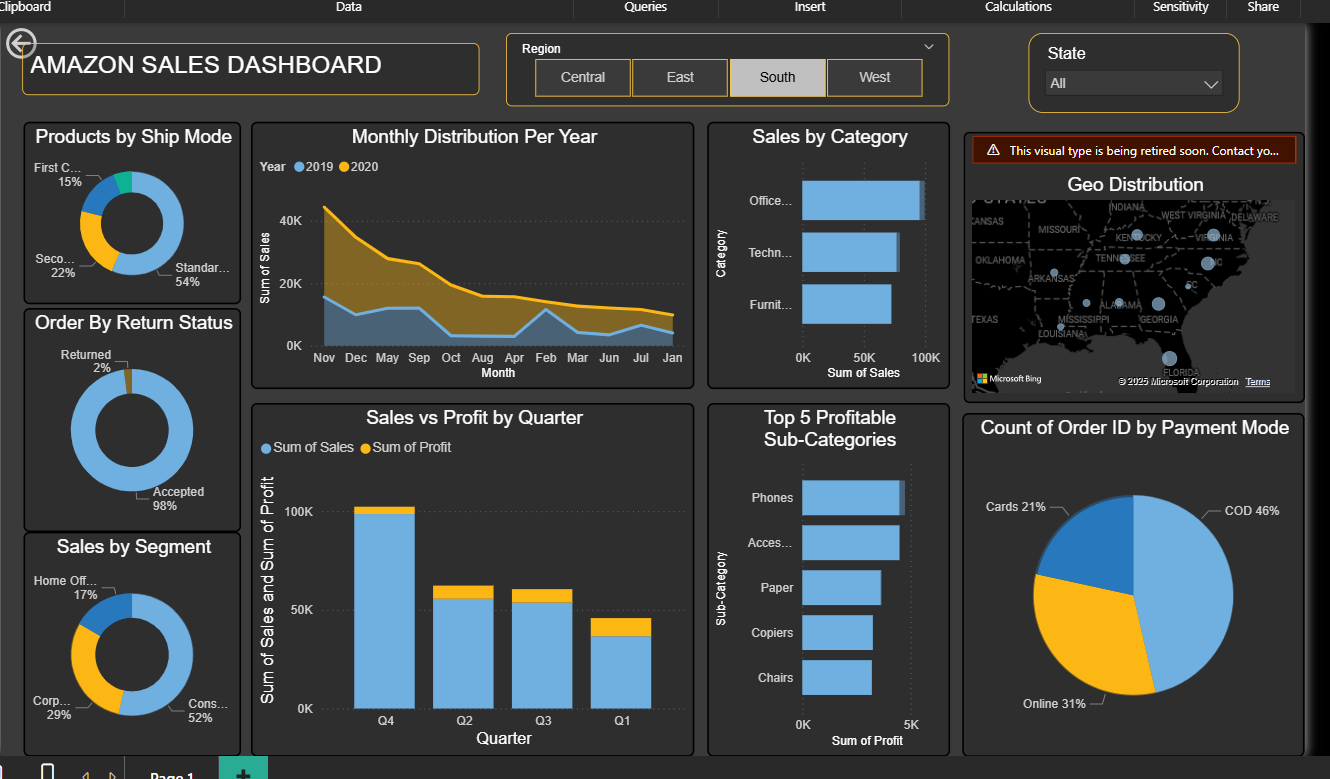

The dashboard page shown, as its layout file describes it:
{"tool":"powerbi","page":{"name":"Page 1","canvas":[1280,720],"ordinal":0},"visuals":[{"type":"clusteredBarChart","title":"Sales by Category","fields":{"Category":["Amazon Store Sales Data xlsx -.Category"],"Y":["Sum(Amazon Store Sales Data xlsx -.Sales)"]},"box":[693.3,96.9,238,262.6],"z":0},{"type":"clusteredBarChart","title":"Top 5 Profitable Sub-Categories","fields":{"Category":["Amazon Store Sales Data xlsx -.Sub-Category"],"Y":["Sum(Amazon Store Sales Data xlsx -.Profit)"]},"box":[693.3,373,238,347.2],"z":1000},{"type":"donutChart","title":"Sales by Segment","fields":{"Category":["Amazon Store Sales Data xlsx -.Segment"],"Y":["Sum(Amazon Store Sales Data xlsx -.Sales)"]},"box":[22.1,499.4,213.5,220.9],"z":2000},{"type":"donutChart","title":"Products by Ship Mode","fields":{"Category":["Amazon Store Sales Data xlsx -.Ship Mode"],"Y":["CountNonNull(Amazon Store Sales Data xlsx -.Product ID)"]},"box":[22.1,96.9,213.5,179.1],"z":3000},{"type":"pieChart","fields":{"Category":["Amazon Store Sales Data xlsx -.Payment Mode"],"Y":["CountNonNull(Amazon Store Sales Data xlsx -.Order ID)"]},"box":[943.6,382.8,336.2,337.4],"z":4000},{"type":"donutChart","title":"Order By Return Status","fields":{"Category":["Sheet1.Return status"],"Y":["CountNonNull(Amazon Store Sales Data xlsx -.Order ID)"]},"box":[22.1,279.8,213.5,219.6],"z":5000},{"type":"actionButton","box":[0,0,100,40],"z":6000},{"type":"columnChart","title":"Sales vs Profit by Quarter","fields":{"Category":["Sheet1.Quarter"],"Y":["Sum(Sheet1.Sales)","Sum(Sheet1.Profit)","Sum(Sheet1.Sales)"]},"box":[245.4,373,435.6,347.2],"z":7000},{"type":"stackedAreaChart","title":"Monthly Distribution Per Year","fields":{"Y":["Sum(Sheet1.Sales)"],"Category":["Sheet1.Order Date Hierarchy.Month"],"Series":["Sheet1.Year"]},"box":[245.4,96.9,435.6,262.6],"z":8000},{"type":"map","title":"Geo Distribution","fields":{"Category":["Sheet1.State"],"Size":["Sum(Sheet1.Sales)"]},"box":[944.8,106.7,335,266.3],"z":9000},{"type":"slicer","fields":{"Values":["Sheet1.Region"]},"box":[495.7,9.8,435.6,72.4],"z":10000},{"type":"slicer","fields":{"Values":["Sheet1.State"]},"box":[1008.6,9.8,207.4,78.5],"z":11000},{"type":"textbox","box":[20.9,19.6,449.1,51.5],"z":12000}]}

Visuals, with their boxes in screenshot pixels (x1, y1, x2, y2):
"Sales by Category" clusteredBarChart: [703,141,947,410]
"Top 5 Profitable Sub-Categories" clusteredBarChart: [703,424,947,778]
"Sales by Segment" donutChart: [16,553,234,778]
"Products by Ship Mode" donutChart: [16,141,234,324]
pieChart - Amazon Store Sales Data xlsx -.Payment Mode x CountNonNull(Amazon Store Sales Data xlsx -.Order ID): [960,434,1304,778]
"Order By Return Status" donutChart: [16,328,234,553]
actionButton: [0,42,96,83]
"Sales vs Profit by Quarter" columnChart: [245,424,691,778]
"Monthly Distribution Per Year" stackedAreaChart: [245,141,691,410]
"Geo Distribution" map: [961,151,1304,424]
slicer - Sheet1.Region: [501,52,947,126]
slicer - Sheet1.State: [1027,52,1239,132]
textbox: [14,62,475,114]
